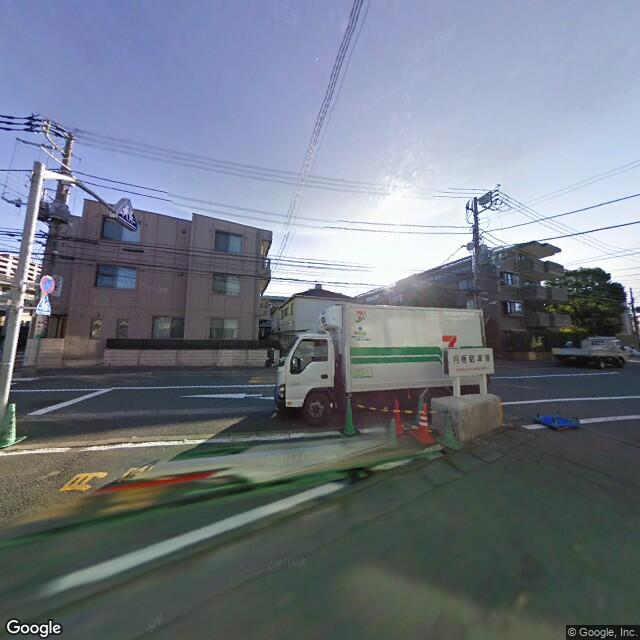7-eleven: (428, 324, 461, 357), (347, 305, 373, 331)
